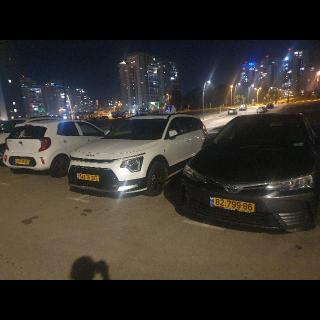LicensePlate: (212, 197, 255, 212), (78, 174, 99, 181), (17, 160, 29, 164)
